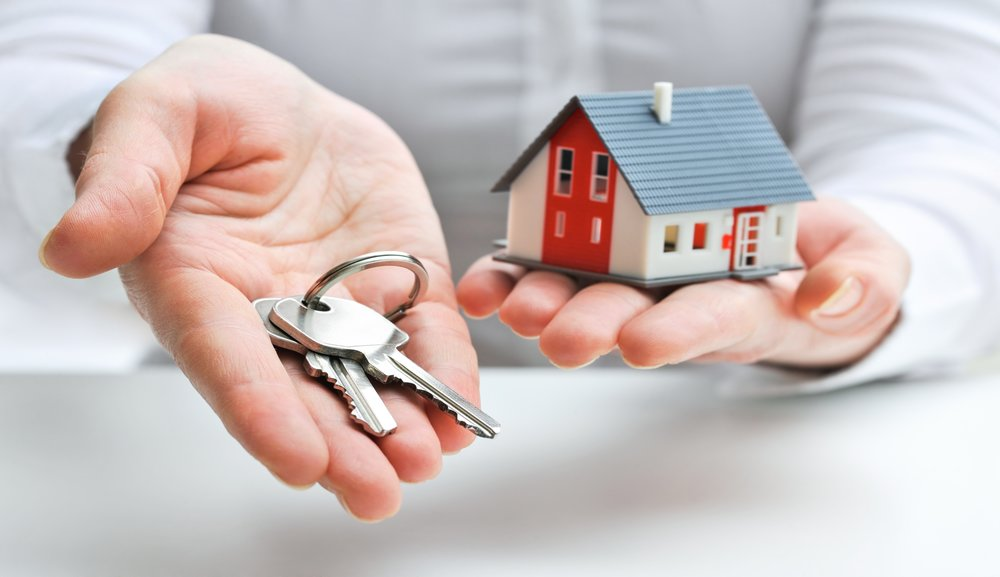keys: (236, 242, 518, 459)
